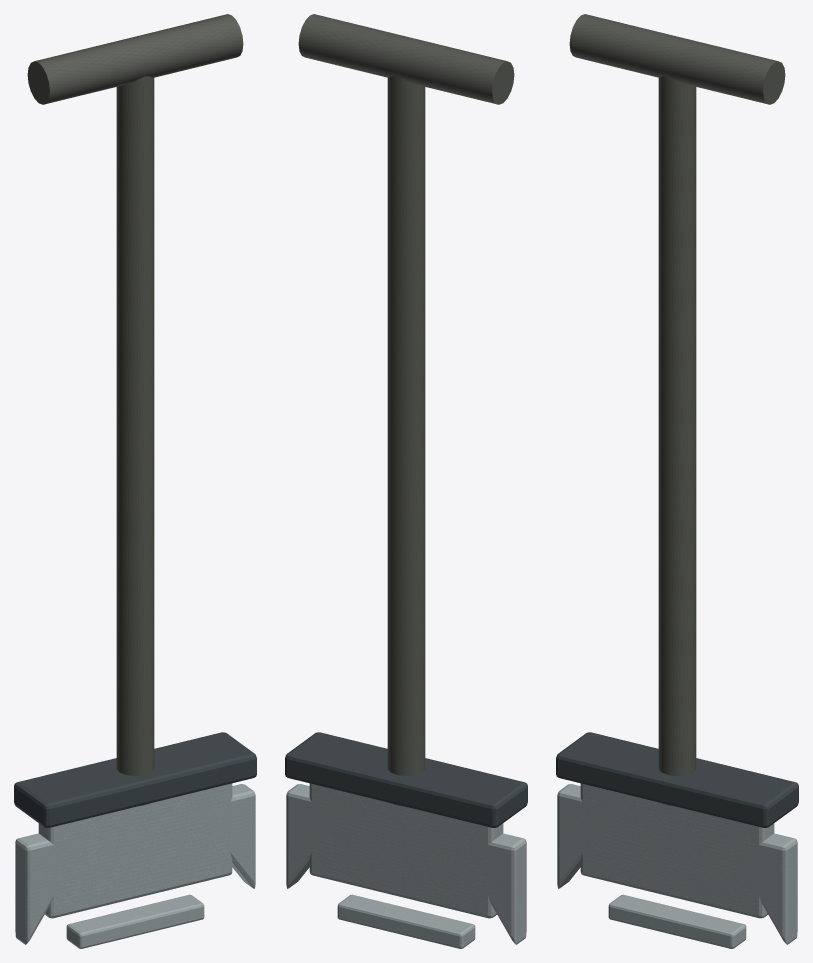
The model's file is HalfMoonEdger.gltf.
3 views of the same model, side by side, from view 1: azimuth 30°, elevation 25°; view 2: azimuth 150°, elevation 25°; view 3: azimuth 330°, elevation 25° (orthographic).
Parts seen in each view (by area): view 1: HalfMoonEdger__Body; view 2: HalfMoonEdger__Body; view 3: HalfMoonEdger__Body.
Part boxes in pixels (x1,y1,x2,y2): HalfMoonEdger__Body: (14,14,256,948); HalfMoonEdger__Body: (285,14,527,948); HalfMoonEdger__Body: (556,14,798,948).
Bounding box in the file's own units: 0.3332 × 1.23 × 0.084.
2 materials, 1 textured.
